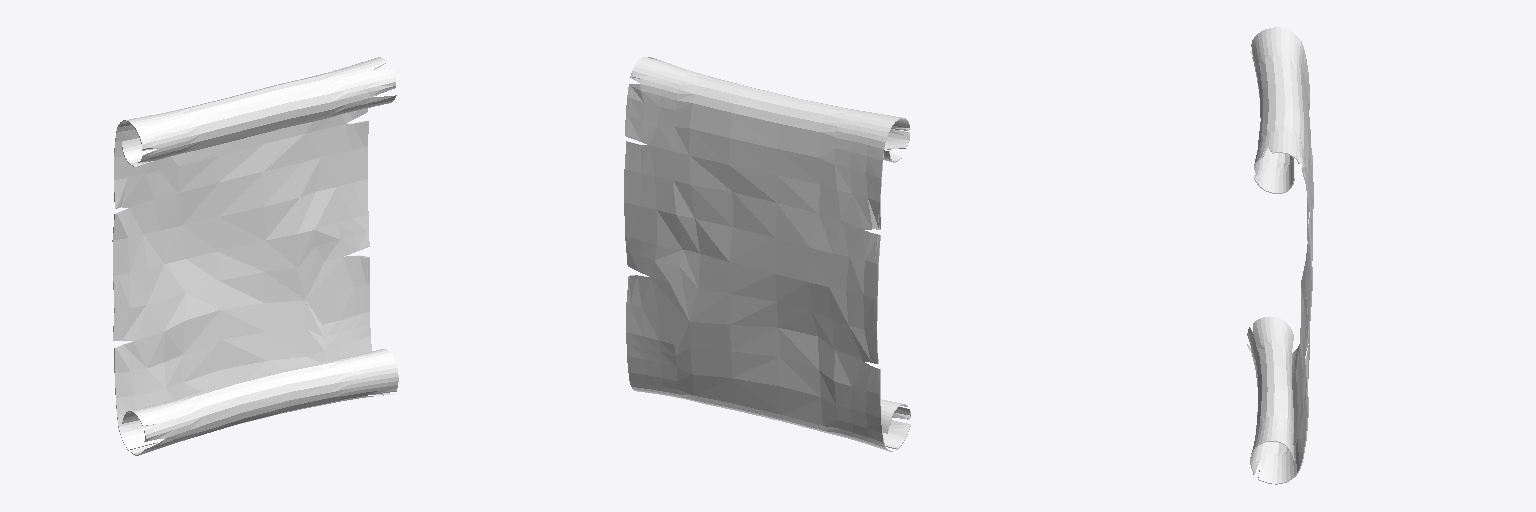
File: 14059_Pirate_Treasure_map_Scroll_v1_L1.obj
3 views of the same model, side by side, from view 1: azimuth 30°, elevation 25°; view 2: azimuth 150°, elevation 25°; view 3: azimuth 270°, elevation 25° (orthographic).
Parts seen in each view (by area): view 1: 14059PirateTreasuremapScroll; view 2: 14059PirateTreasuremapScroll; view 3: 14059PirateTreasuremapScroll.
Part boxes in pixels (bbox=[...]): 14059PirateTreasuremapScroll: bbox=[112, 57, 398, 455]; 14059PirateTreasuremapScroll: bbox=[624, 57, 910, 451]; 14059PirateTreasuremapScroll: bbox=[1247, 27, 1313, 484].
Bounding box in the file's own units: 11.88 × 14.75 × 2.71.